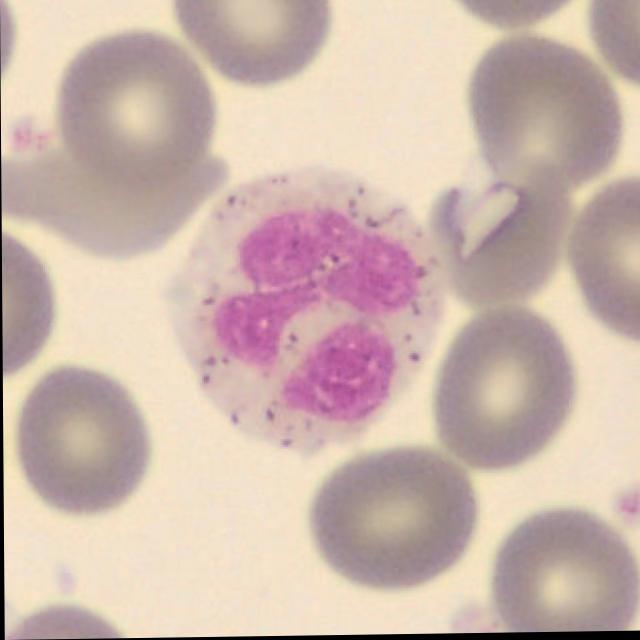Neutrofilo segmentado: (160, 161, 451, 455)
